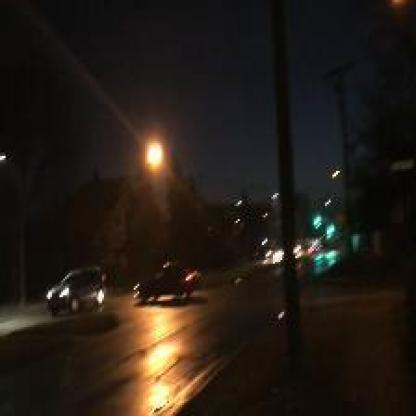other: (127, 125, 176, 178)
